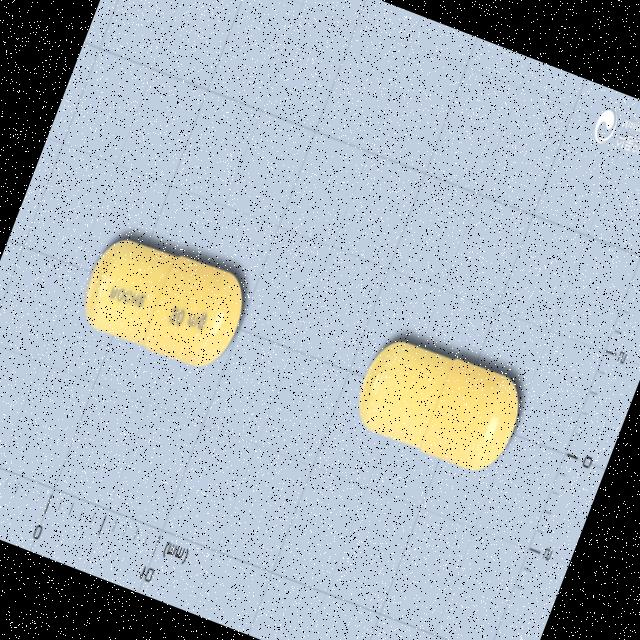Tamiflu Cap: (346, 329, 532, 482), (74, 225, 255, 378)
